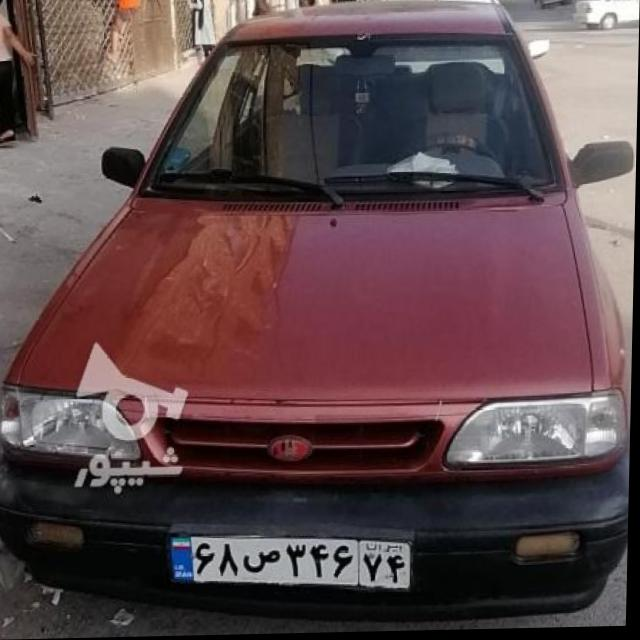licence: (164, 533, 418, 594)
